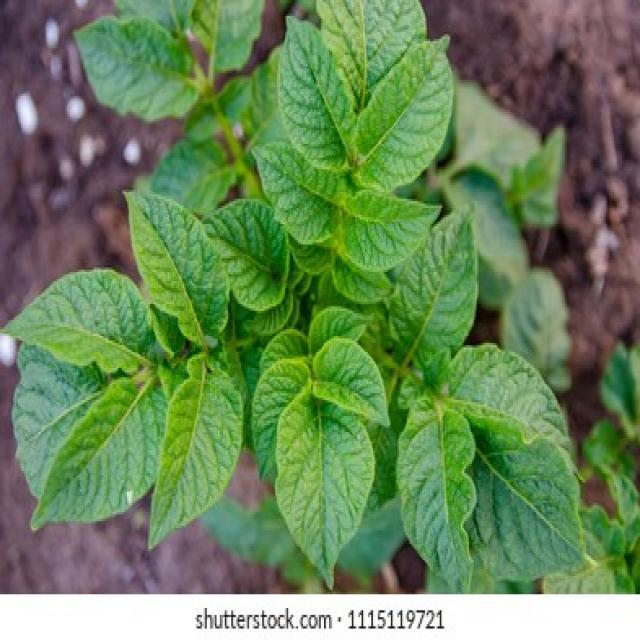Healthy Leaf: (276, 384, 368, 592), (120, 182, 235, 336), (154, 356, 244, 545), (399, 400, 479, 598), (364, 29, 460, 194), (398, 212, 494, 360), (282, 15, 359, 176), (310, 341, 385, 425)
